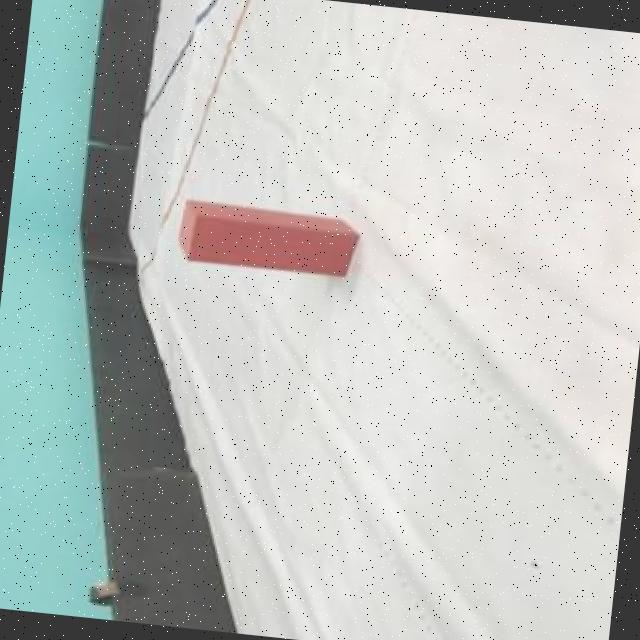redbox: (175, 196, 358, 278)
